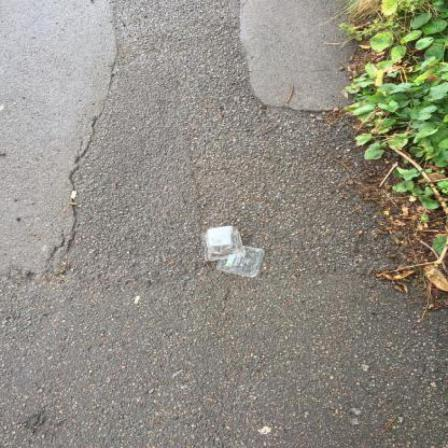Cigarette: (73, 192, 79, 201)
Plastic bag - wrapper: (217, 247, 266, 278)
Plastic container: (202, 227, 247, 262)
